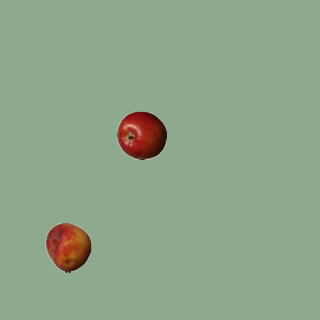Apple Braeburn: (116, 110, 166, 160)
Peach: (43, 222, 93, 272)
